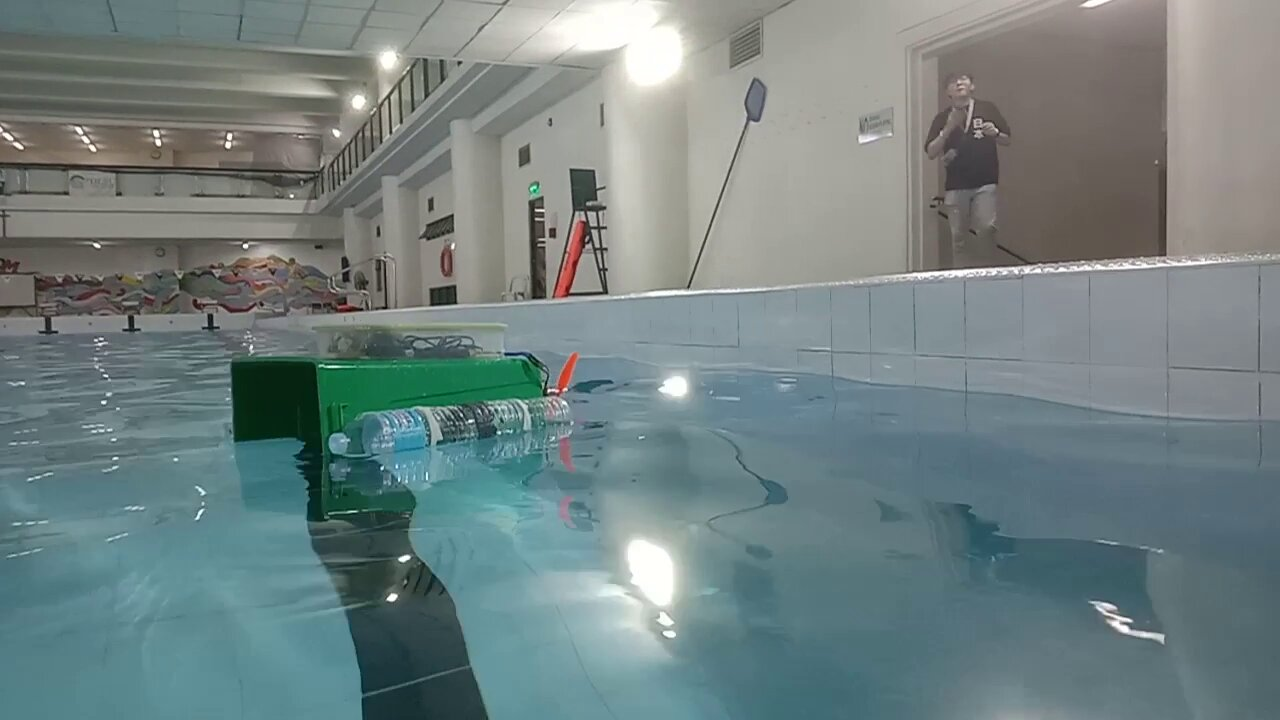drone: (231, 325, 578, 459)
